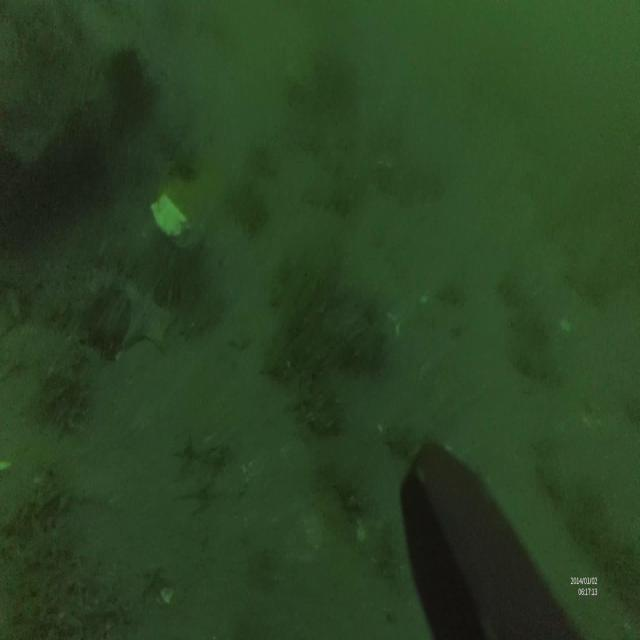scallop: (149, 193, 189, 240)
starfish: (122, 282, 174, 360), (176, 482, 219, 522), (172, 433, 204, 481), (136, 560, 172, 602), (196, 441, 228, 488)
